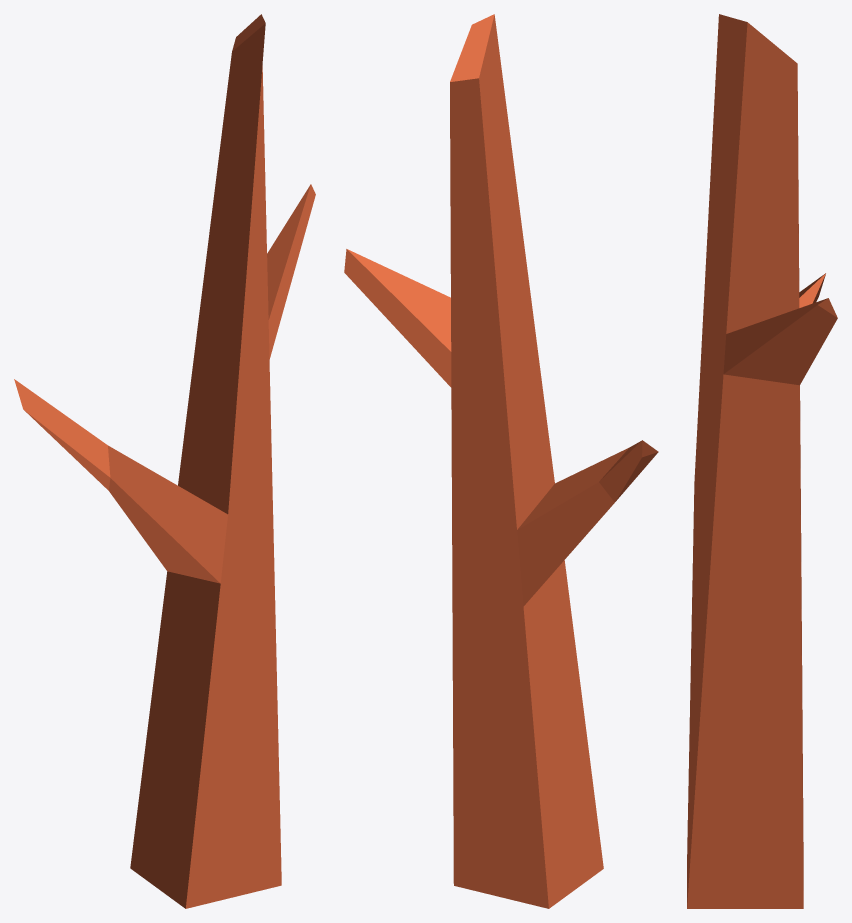
File: Tree1.dae
The picture shows the model from 3 angles, left to right: view 1: azimuth 30°, elevation 25°; view 2: azimuth 150°, elevation 25°; view 3: azimuth 270°, elevation 25°; orthographic projection. The views are drawn at different scales.
Parts seen in each view (by area): view 1: Baum1; view 2: Baum1; view 3: Baum1.
Part boxes in pixels (x1,y1,x2,y2): Baum1: (14,14,315,908); Baum1: (344,14,658,908); Baum1: (687,14,837,908).
Size of the model in its own units: 6.28 by 2.59 by 16.93.
